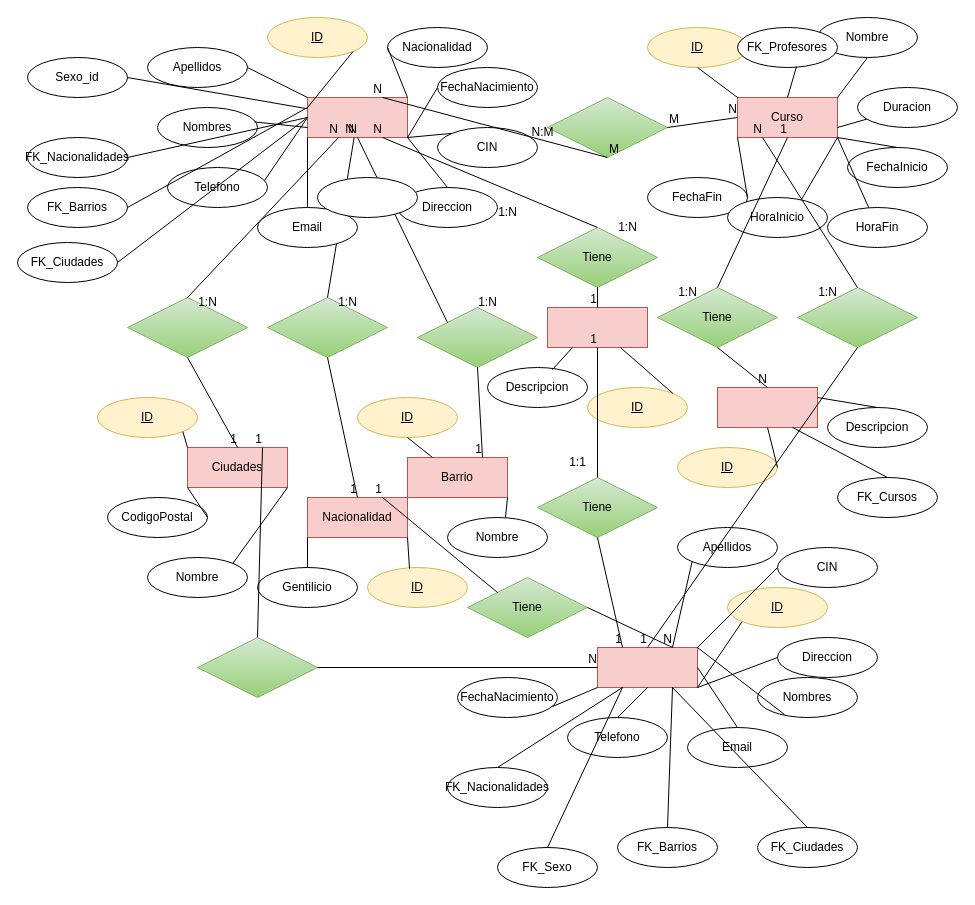
Image size: 975x905. Some labels were removed from this diagram. The box of each missing label's shape, as (x1, y1, x2, y2) in pixels:
Alumnos: (306, 96, 408, 138)
Asiste: (546, 96, 668, 158)
Attribute: (316, 176, 418, 218)
Imparte: (796, 286, 918, 348)
Profesores: (596, 646, 698, 688)
Recide: (196, 636, 318, 698)
Residen: (126, 296, 248, 358)
Sexo: (546, 306, 648, 348)
Tienen: (266, 296, 388, 358)
Turno: (716, 386, 818, 428)
Vive: (416, 306, 538, 368)
